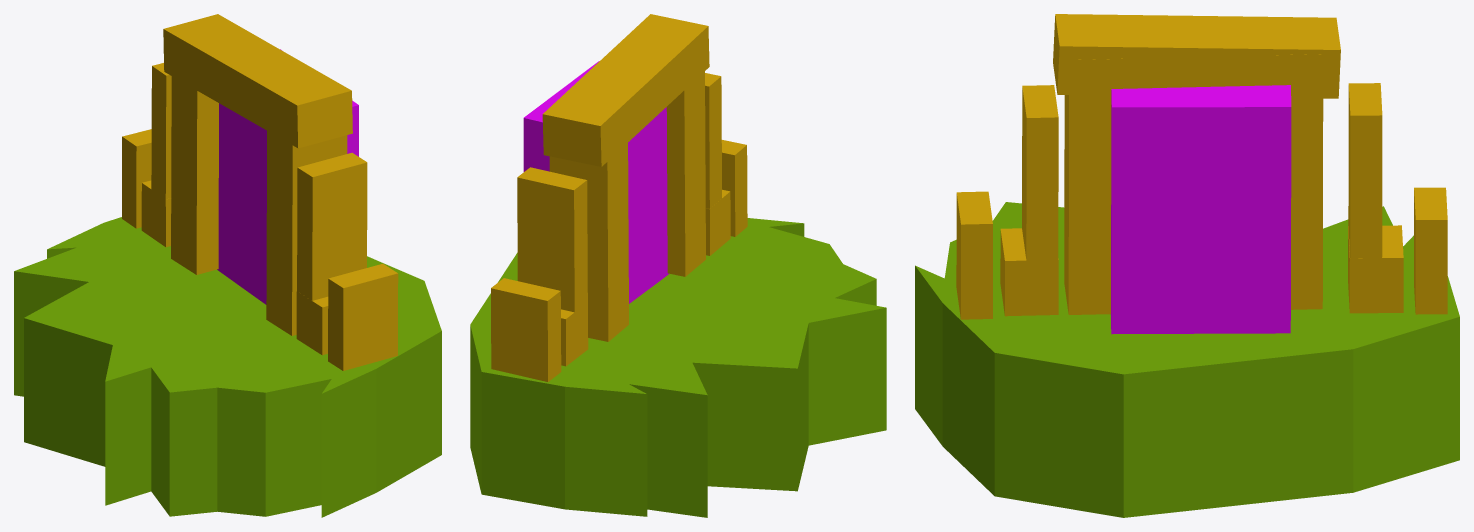
The model's file is SM_W_LowPortal.fbx.
The picture shows the model from 3 angles, left to right: view 1: azimuth 30°, elevation 25°; view 2: azimuth 150°, elevation 25°; view 3: azimuth 270°, elevation 25°; orthographic projection. The views are drawn at different scales.
Parts seen in each view (by area): view 1: Cube__44_1; view 2: Cube__44_1; view 3: Cube__44_1.
Part boxes in pixels (bbox=[...]): Cube__44_1: bbox=[14, 14, 441, 517]; Cube__44_1: bbox=[470, 14, 886, 517]; Cube__44_1: bbox=[915, 14, 1459, 517].
Bounding box in the file's own units: 176 × 176 × 209.
